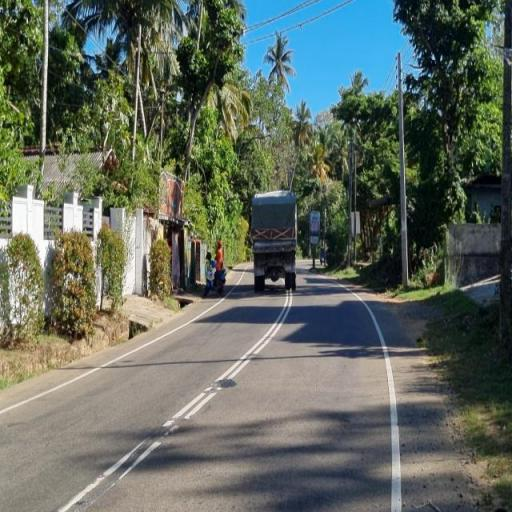double_white_line: (166, 292, 294, 432)
